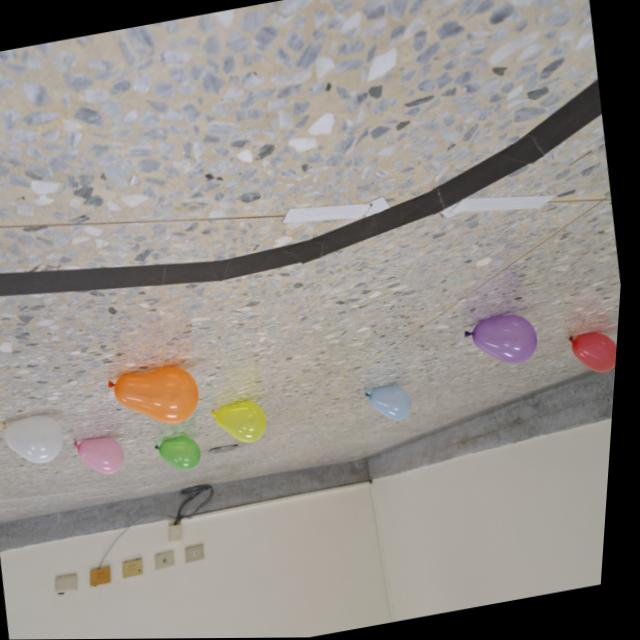other: (108, 359, 211, 438), (464, 309, 547, 373), (2, 407, 77, 470), (211, 395, 279, 451), (76, 431, 134, 481), (365, 381, 421, 426), (154, 431, 209, 476)
red: (570, 328, 623, 378)
